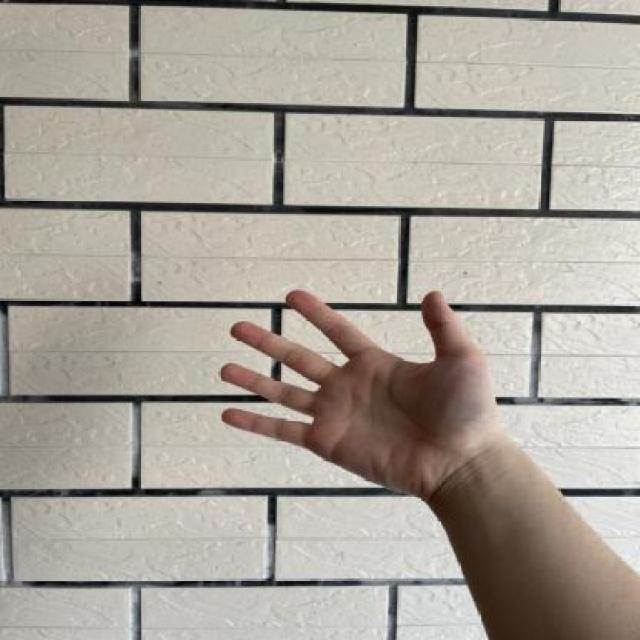hand: (196, 271, 535, 517)
